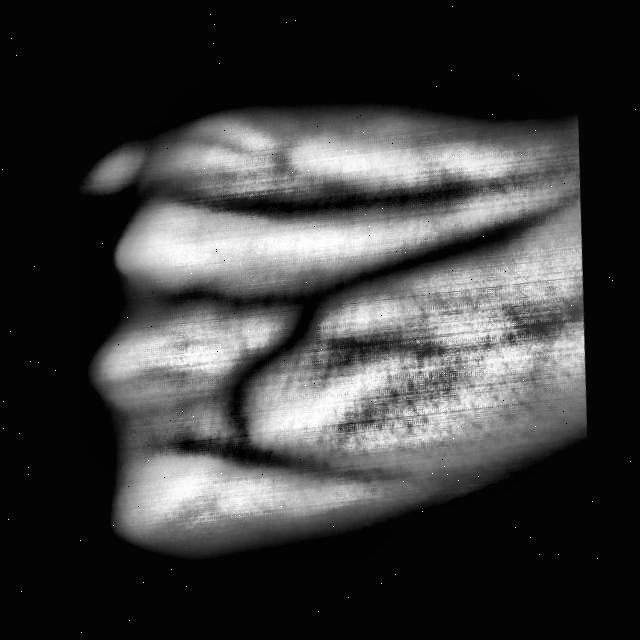Vein: (317, 207, 546, 309), (276, 175, 499, 224)
